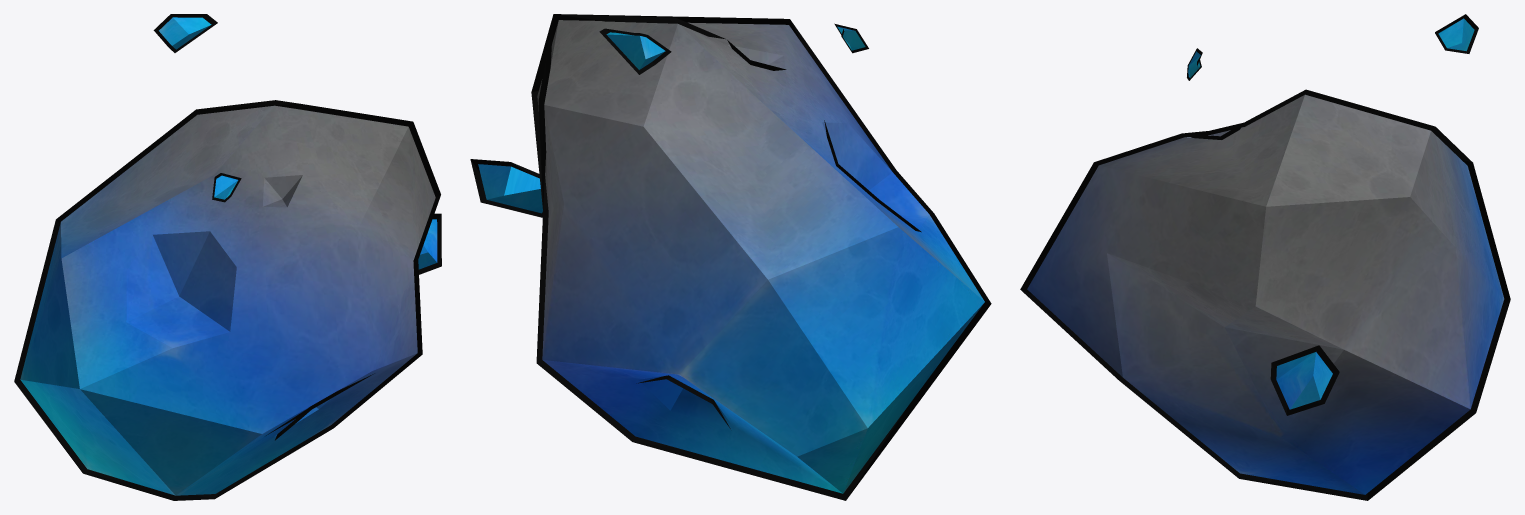
Rendered from meteor2.glb.
3 views of the same model, side by side, from view 1: azimuth 30°, elevation 25°; view 2: azimuth 150°, elevation 25°; view 3: azimuth 270°, elevation 25° (orthographic). The views are drawn at different scales.
Visible parts, largest first — view 1: Icosphere.001_9, Icosphere_6, Cube.002_8, Cube.003_7; view 2: Icosphere.001_9, Icosphere_6, Cube.002_8, Cube.003_7; view 3: Icosphere.001_9, Icosphere_6, Cube.002_8, Cube.003_7.
Boxes of the visible parts, bbox=[...] form: Icosphere.001_9: bbox=[20, 105, 435, 495]; Icosphere_6: bbox=[14, 100, 440, 500]; Cube.002_8: bbox=[159, 17, 437, 269]; Cube.003_7: bbox=[153, 14, 441, 274]; Icosphere.001_9: bbox=[537, 20, 984, 493]; Icosphere_6: bbox=[531, 14, 991, 500]; Cube.002_8: bbox=[478, 26, 865, 213]; Cube.003_7: bbox=[470, 23, 868, 217]; Icosphere.001_9: bbox=[1027, 94, 1504, 494]; Icosphere_6: bbox=[1020, 89, 1510, 500]; Cube.002_8: bbox=[1188, 18, 1474, 409]; Cube.003_7: bbox=[1187, 14, 1478, 415].
Bounding box in the file's own units: 6.81 × 6.69 × 6.06.
Materials: 2 (1 with a texture image).
